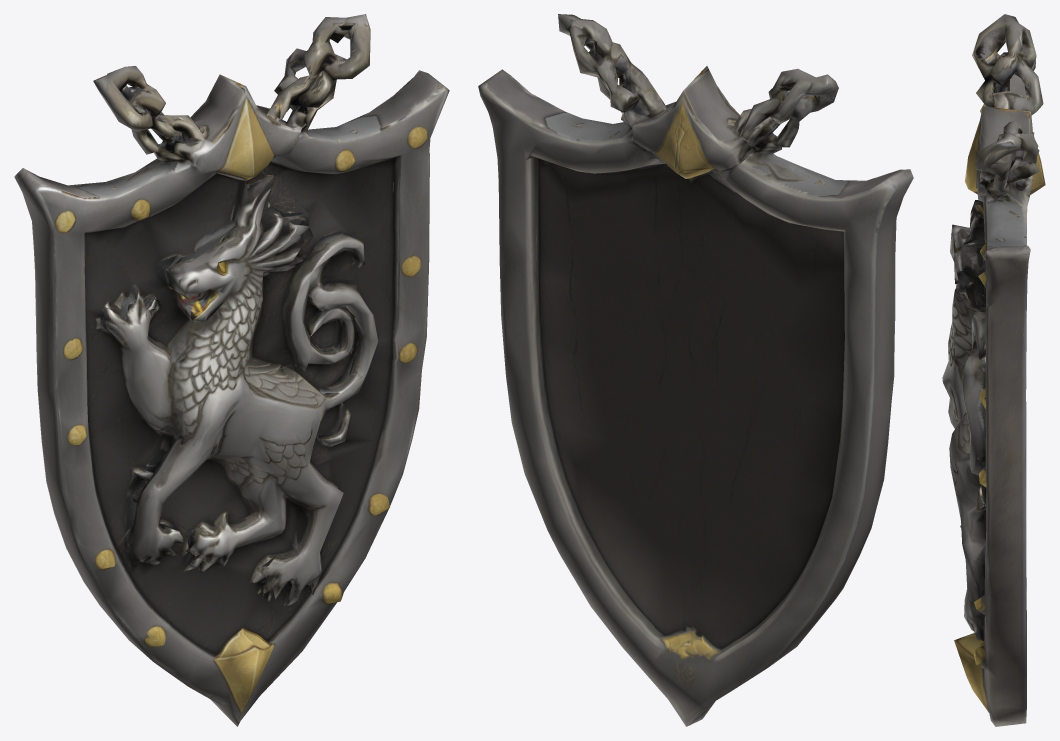
The model's file is Sigil of Honor.fbx.
3 views of the same model, side by side, from view 1: azimuth 30°, elevation 25°; view 2: azimuth 150°, elevation 25°; view 3: azimuth 270°, elevation 25° (orthographic). The views are drawn at different scales.
Parts seen in each view (by area): view 1: Mesh1.0; view 2: Mesh1.0; view 3: Mesh1.0.
Boxes of the visible parts, x1,y1,x2,y2 form: Mesh1.0: (14,14,449,726); Mesh1.0: (478,14,913,726); Mesh1.0: (942,14,1045,726).
Size of the model in its own units: 64.27 by 100 by 14.29.
1 material, 1 textured.
